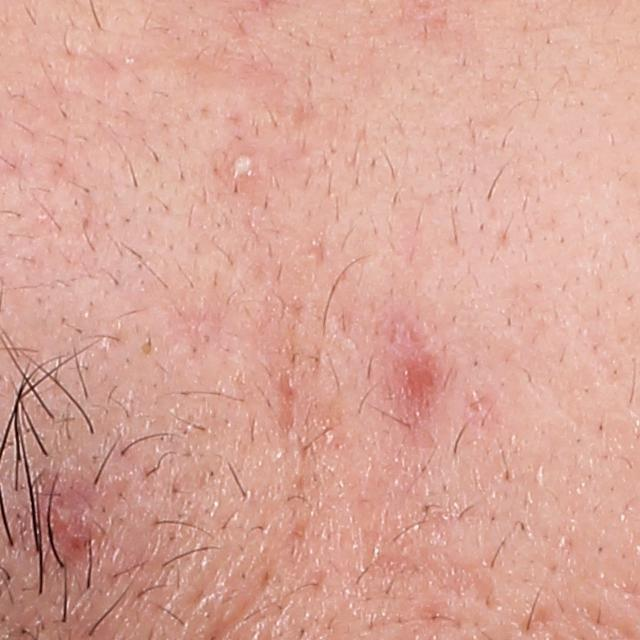atrophic_scar: (275, 361, 305, 440), (515, 600, 558, 638)
comedo: (134, 338, 158, 362)
pustule: (224, 147, 262, 180)
